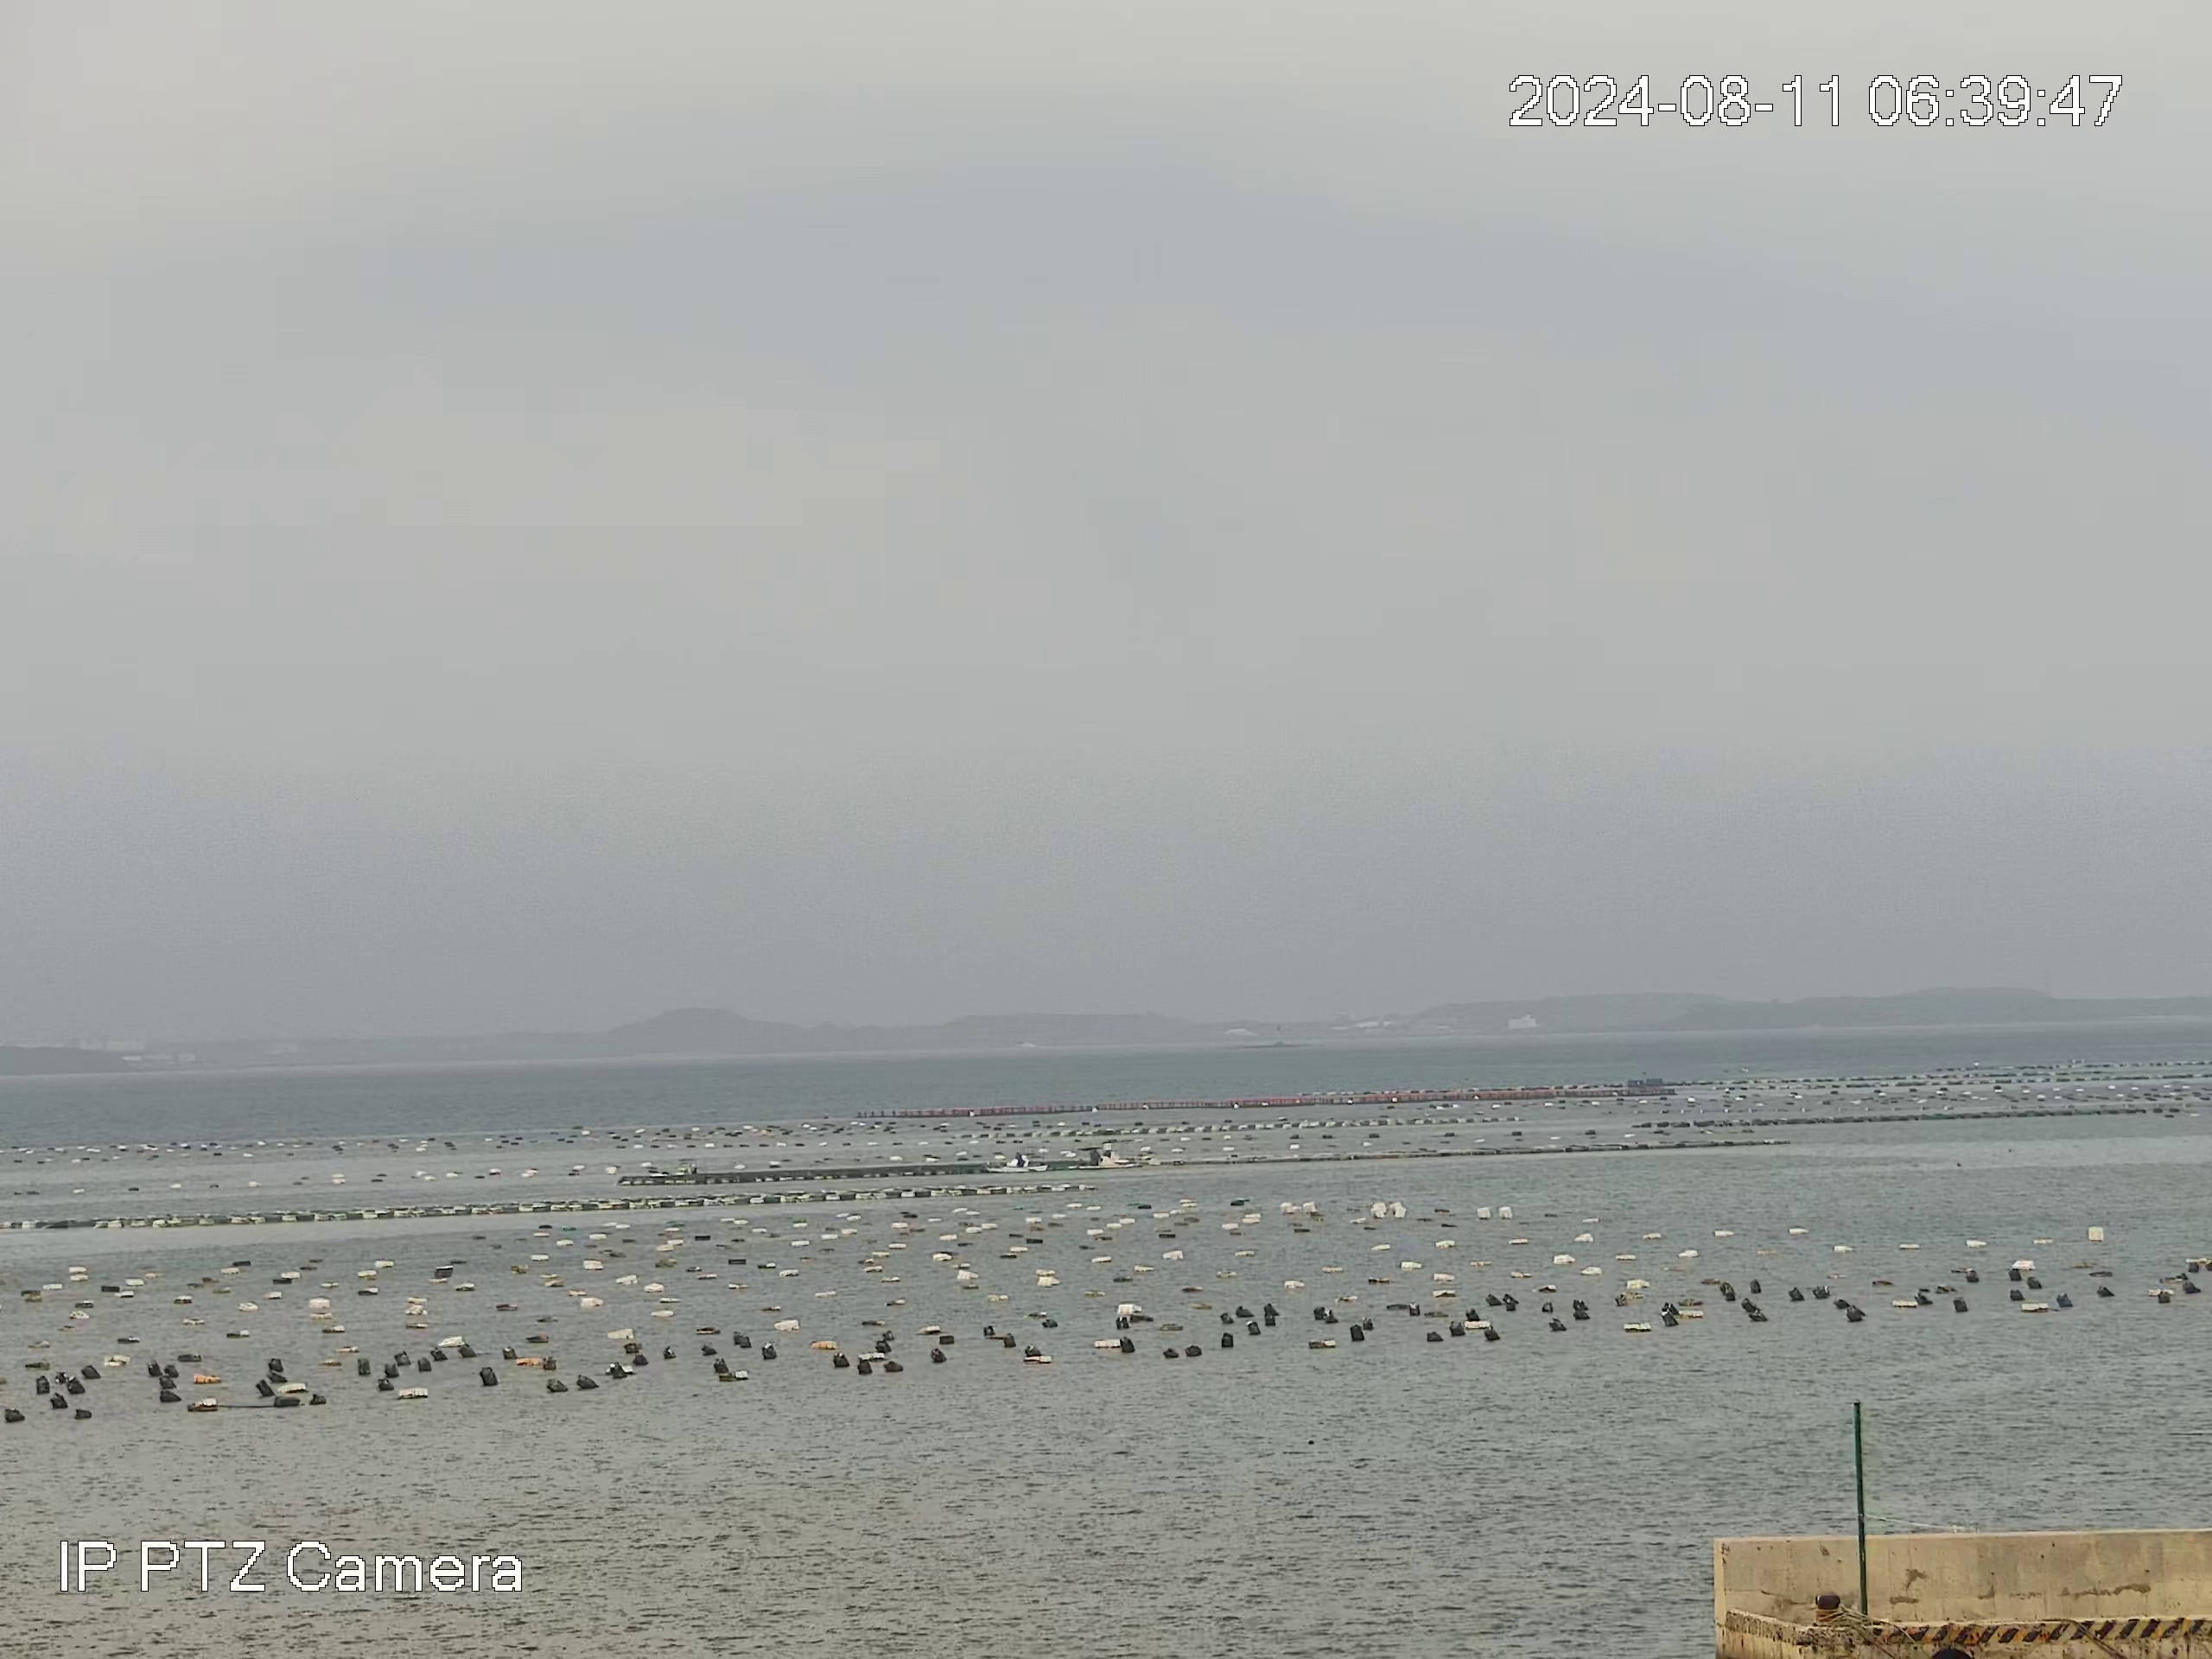boat: (1068, 1145, 1129, 1169), (984, 1154, 1050, 1175)
